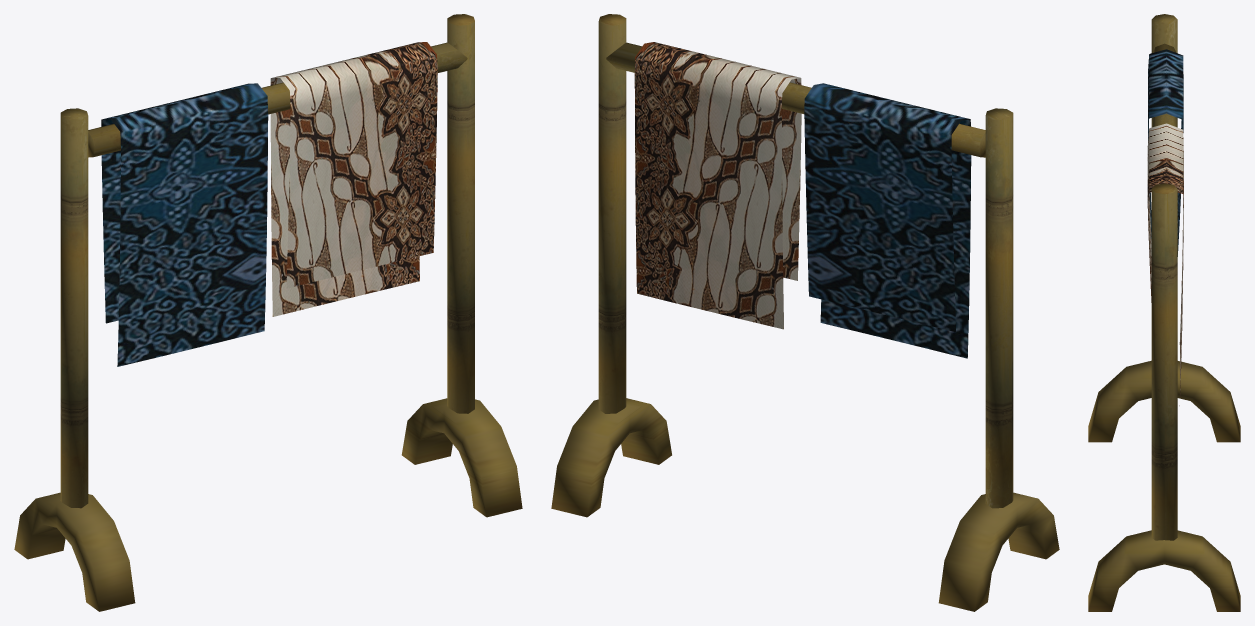
File: Jemuran.fbx
3 views of the same model, side by side, from view 1: azimuth 30°, elevation 25°; view 2: azimuth 150°, elevation 25°; view 3: azimuth 270°, elevation 25° (orthographic). The views are drawn at different scales.
Parts seen in each view (by area): view 1: Plane, Plane.001, Cylinder.001, Cylinder; view 2: Plane.001, Plane, Cylinder.001, Cylinder; view 3: Cylinder, Cylinder.001, Plane.001, Plane.
Part boxes in pixels (bbox=[...]): Plane: bbox=[101, 83, 268, 366]; Plane.001: bbox=[270, 42, 437, 316]; Cylinder.001: bbox=[60, 14, 474, 508]; Cylinder: bbox=[14, 398, 522, 611]; Plane.001: bbox=[634, 42, 801, 329]; Plane: bbox=[804, 83, 971, 358]; Cylinder.001: bbox=[598, 14, 1013, 508]; Cylinder: bbox=[551, 398, 1059, 611]; Cylinder: bbox=[1088, 360, 1240, 611]; Cylinder.001: bbox=[1151, 14, 1177, 540]; Plane.001: bbox=[1147, 123, 1183, 405]; Plane: bbox=[1148, 49, 1183, 256].
Size of the model in its own units: 575 by 600 by 200.
